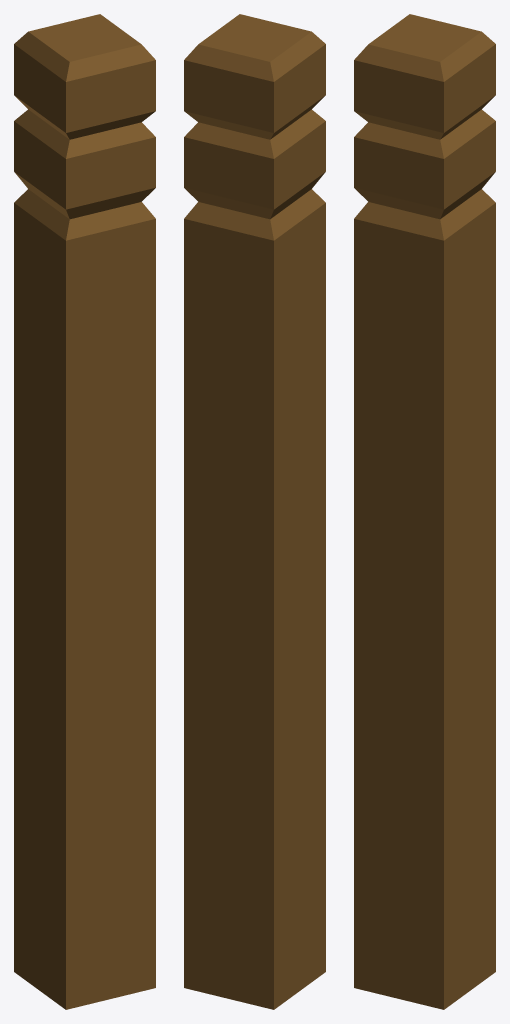
Rendered from wooden_barrier.glb.
3 views of the same model, side by side, from view 1: azimuth 30°, elevation 25°; view 2: azimuth 150°, elevation 25°; view 3: azimuth 330°, elevation 25° (orthographic).
Visible parts, largest first — view 1: Post; view 2: Post; view 3: Post.
Boxes of the visible parts, bbox=[...] form: Post: bbox=[14, 14, 155, 1009]; Post: bbox=[184, 14, 325, 1009]; Post: bbox=[354, 14, 495, 1009].
Size of the model in its own units: 0.25 by 2.5 by 0.25.
